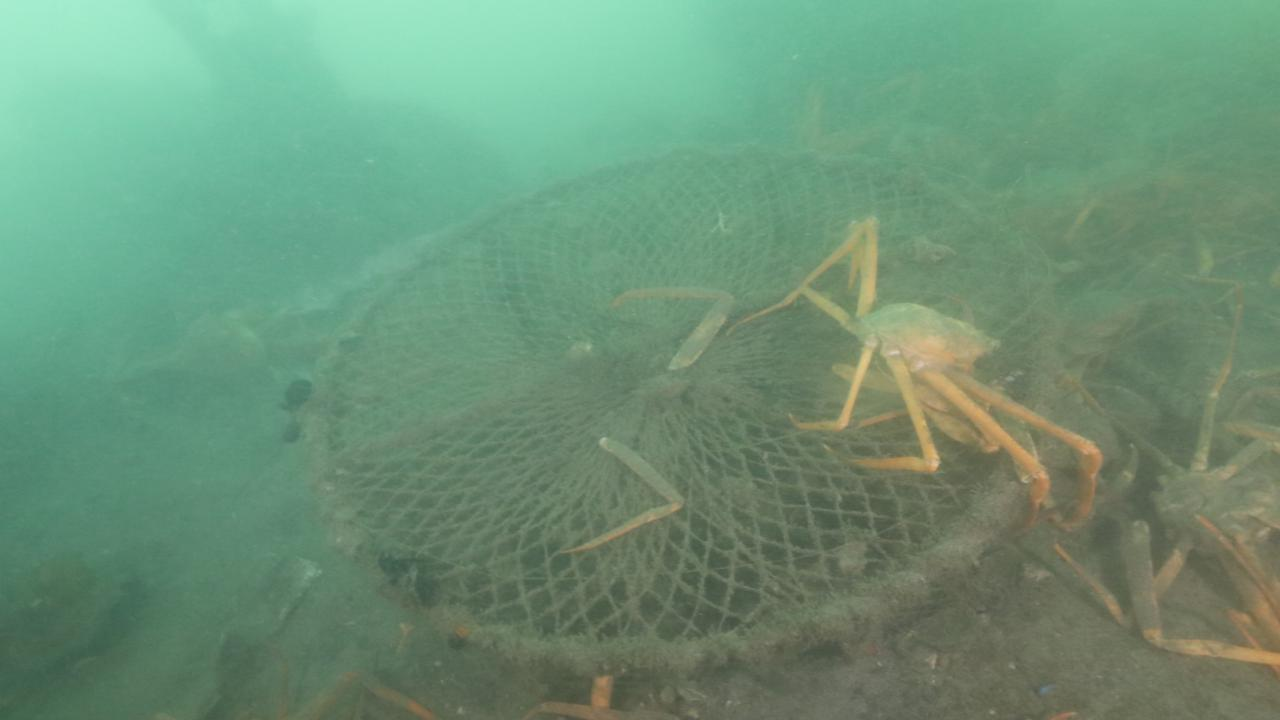circular fish trap: (301, 137, 1059, 678)
